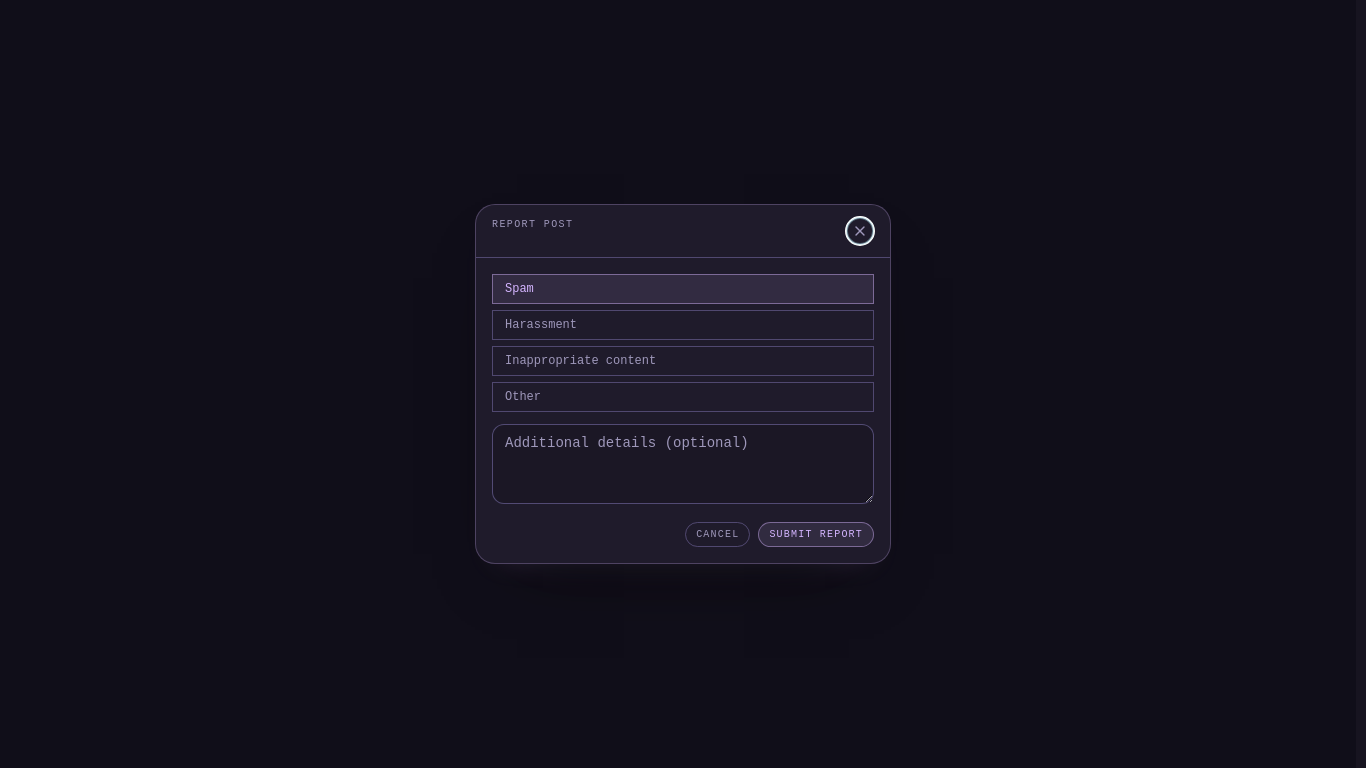
ReportContentDialog › submits the selected reason and trimmed details, then shows the thank-you state
This screenshot has width=1366, height=768.
Click the radio button labelled "Harassment".
click(541, 325)  # box [492,310,874,340]
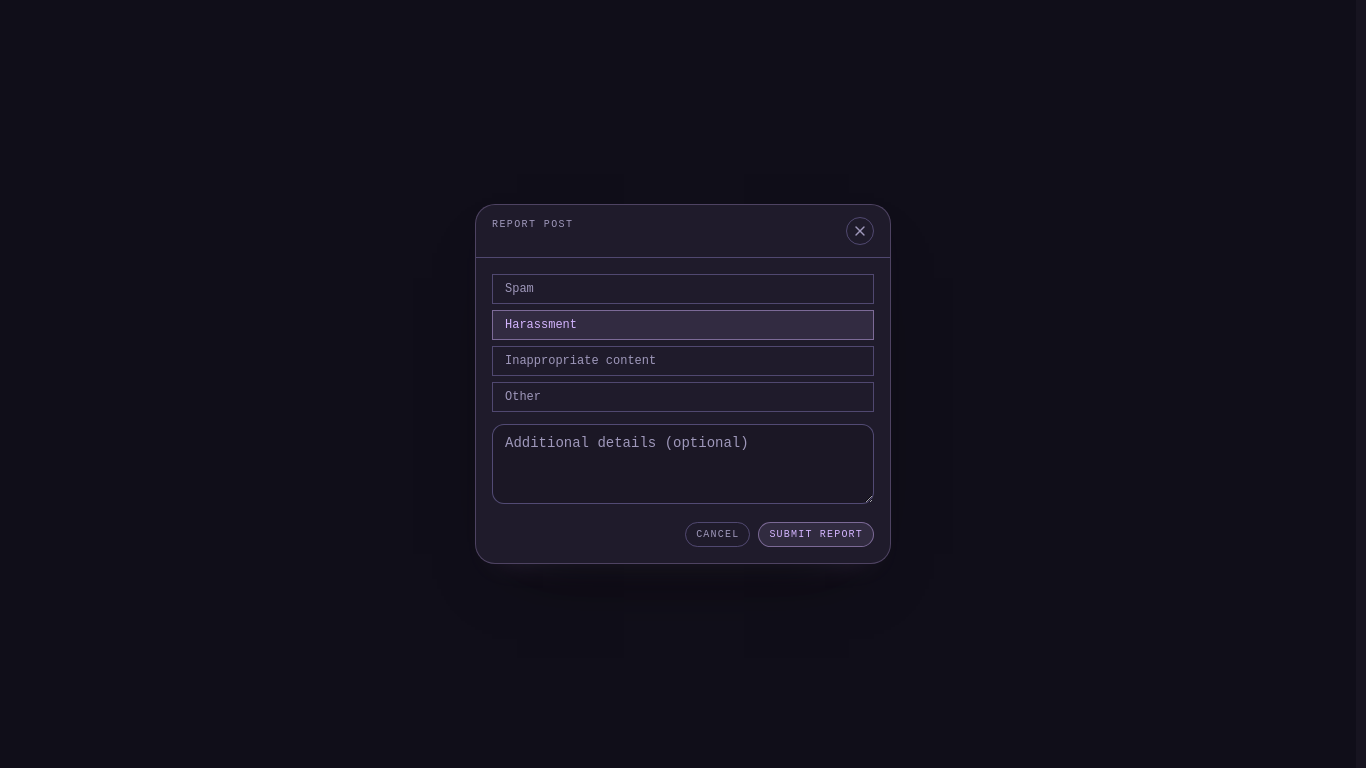
Type "  this user is being abusive  " into the text box with placeholder "Additional details (optional)".
click(683, 464); type("  this user is being abusive  ")  # box [492,424,874,504]
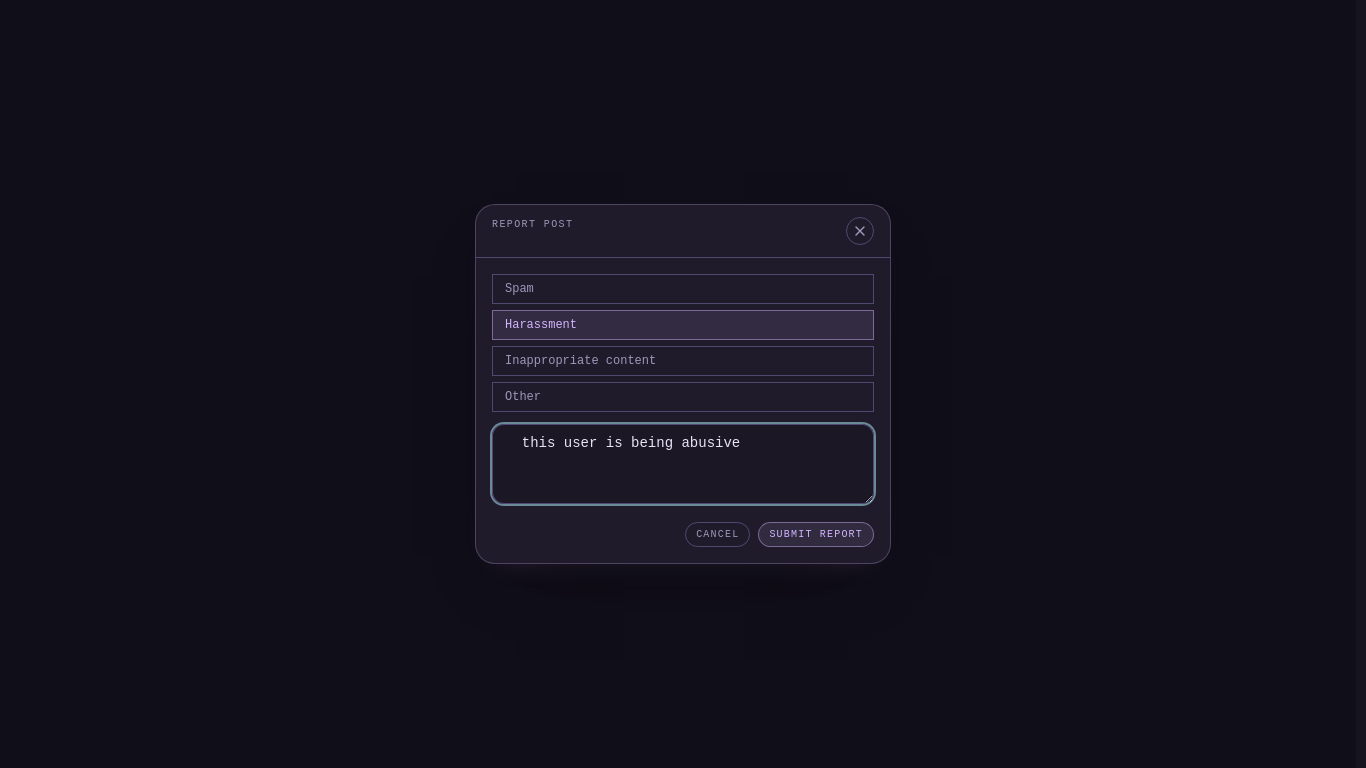
Click the button "submit report".
click(816, 534)  # box [758,522,874,547]
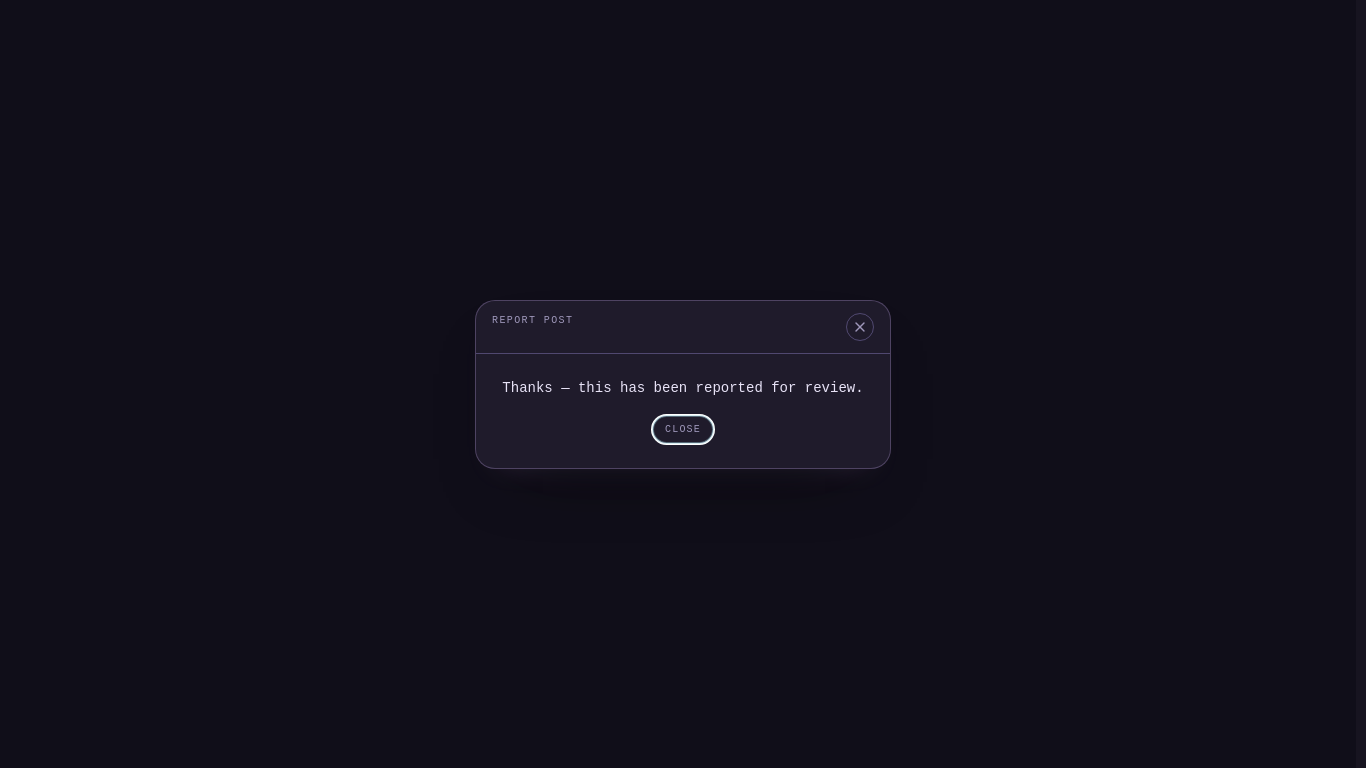
Result: the text "Thanks — this has been reported for review." is shown at [492,378,874,398]
